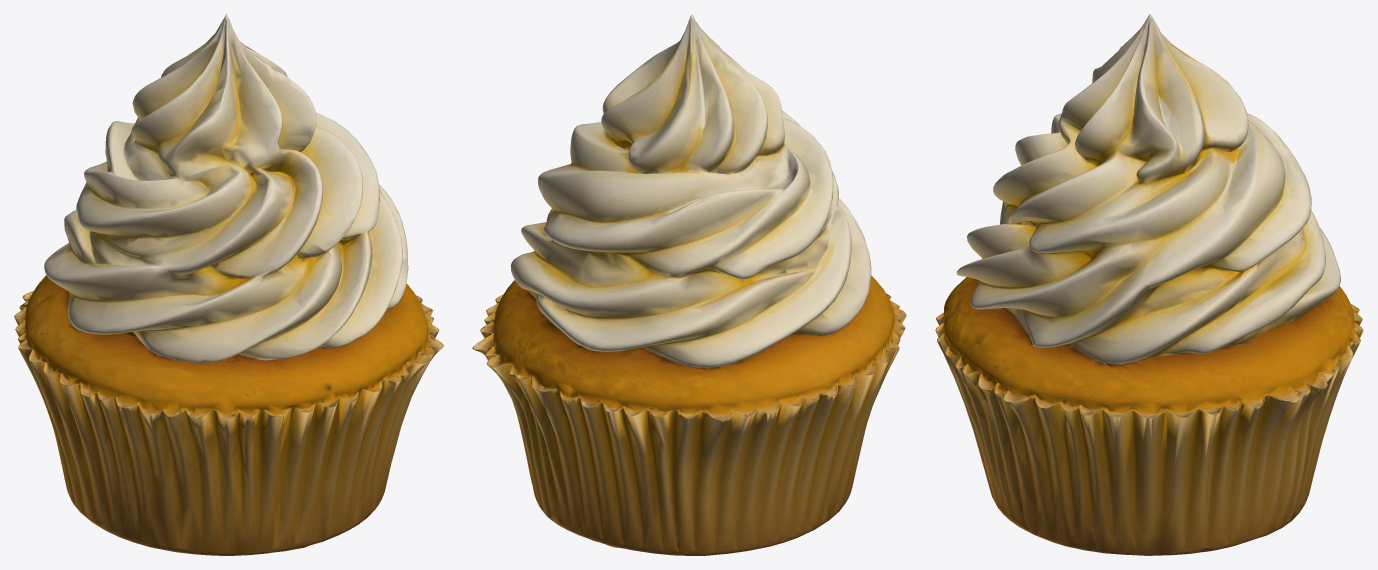
Rendered from bk-pastry-cupcake.glb.
3 renders of one model, left to right at view 1: azimuth 30°, elevation 25°; view 2: azimuth 150°, elevation 25°; view 3: azimuth 270°, elevation 25°, orthographic.
Visible parts, largest first — view 1: node_0; view 2: node_0; view 3: node_0.
Part boxes in pixels (<box>): node_0: <box>14,14,443,555</box>; node_0: <box>472,14,906,555</box>; node_0: <box>935,14,1363,555</box>.
Size of the model in its own units: 0.8184 by 1.03 by 0.8375.
1 material, 1 textured.
